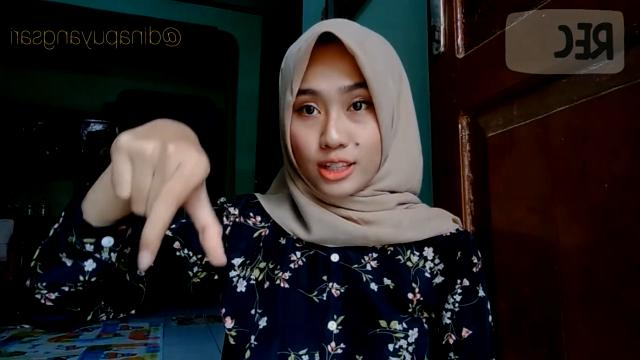Q: (108, 115, 232, 282)
